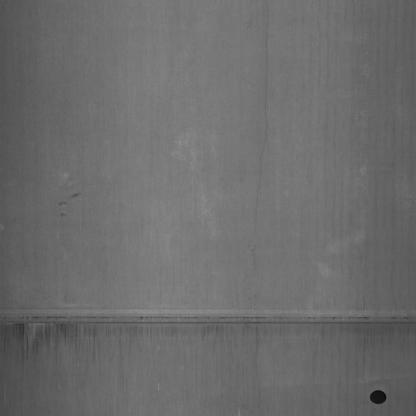punching_hole: (368, 385, 388, 409)
welding_line: (2, 295, 413, 345)
